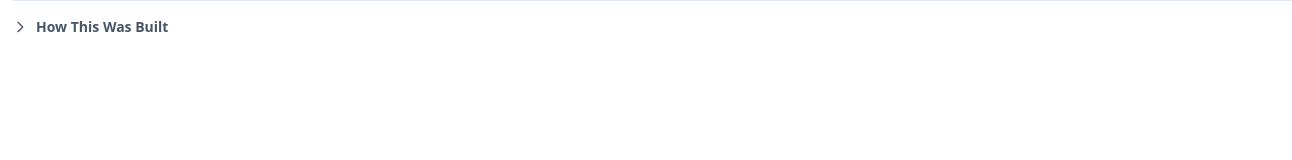
Test: BuildNote › Markdown Rendering › renders code in markdown explanation
This screenshot has width=1292, height=160.
Click the button "How This Was Built": (90, 27) top-left (12, 17), bottom-right (168, 37)
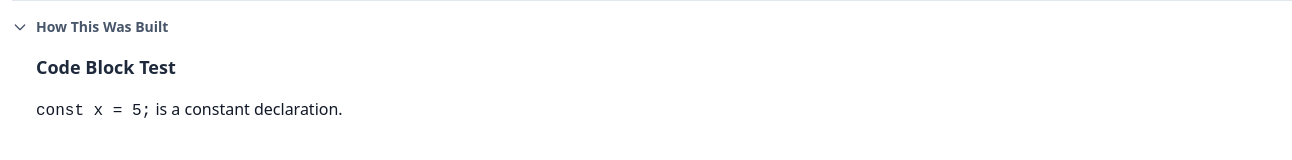
Expected: the text "const x = 5;" is shown, top-left (36, 102), bottom-right (151, 120)
